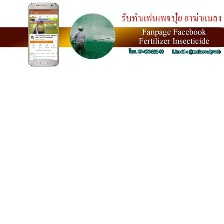phone: (26, 1, 60, 68)
